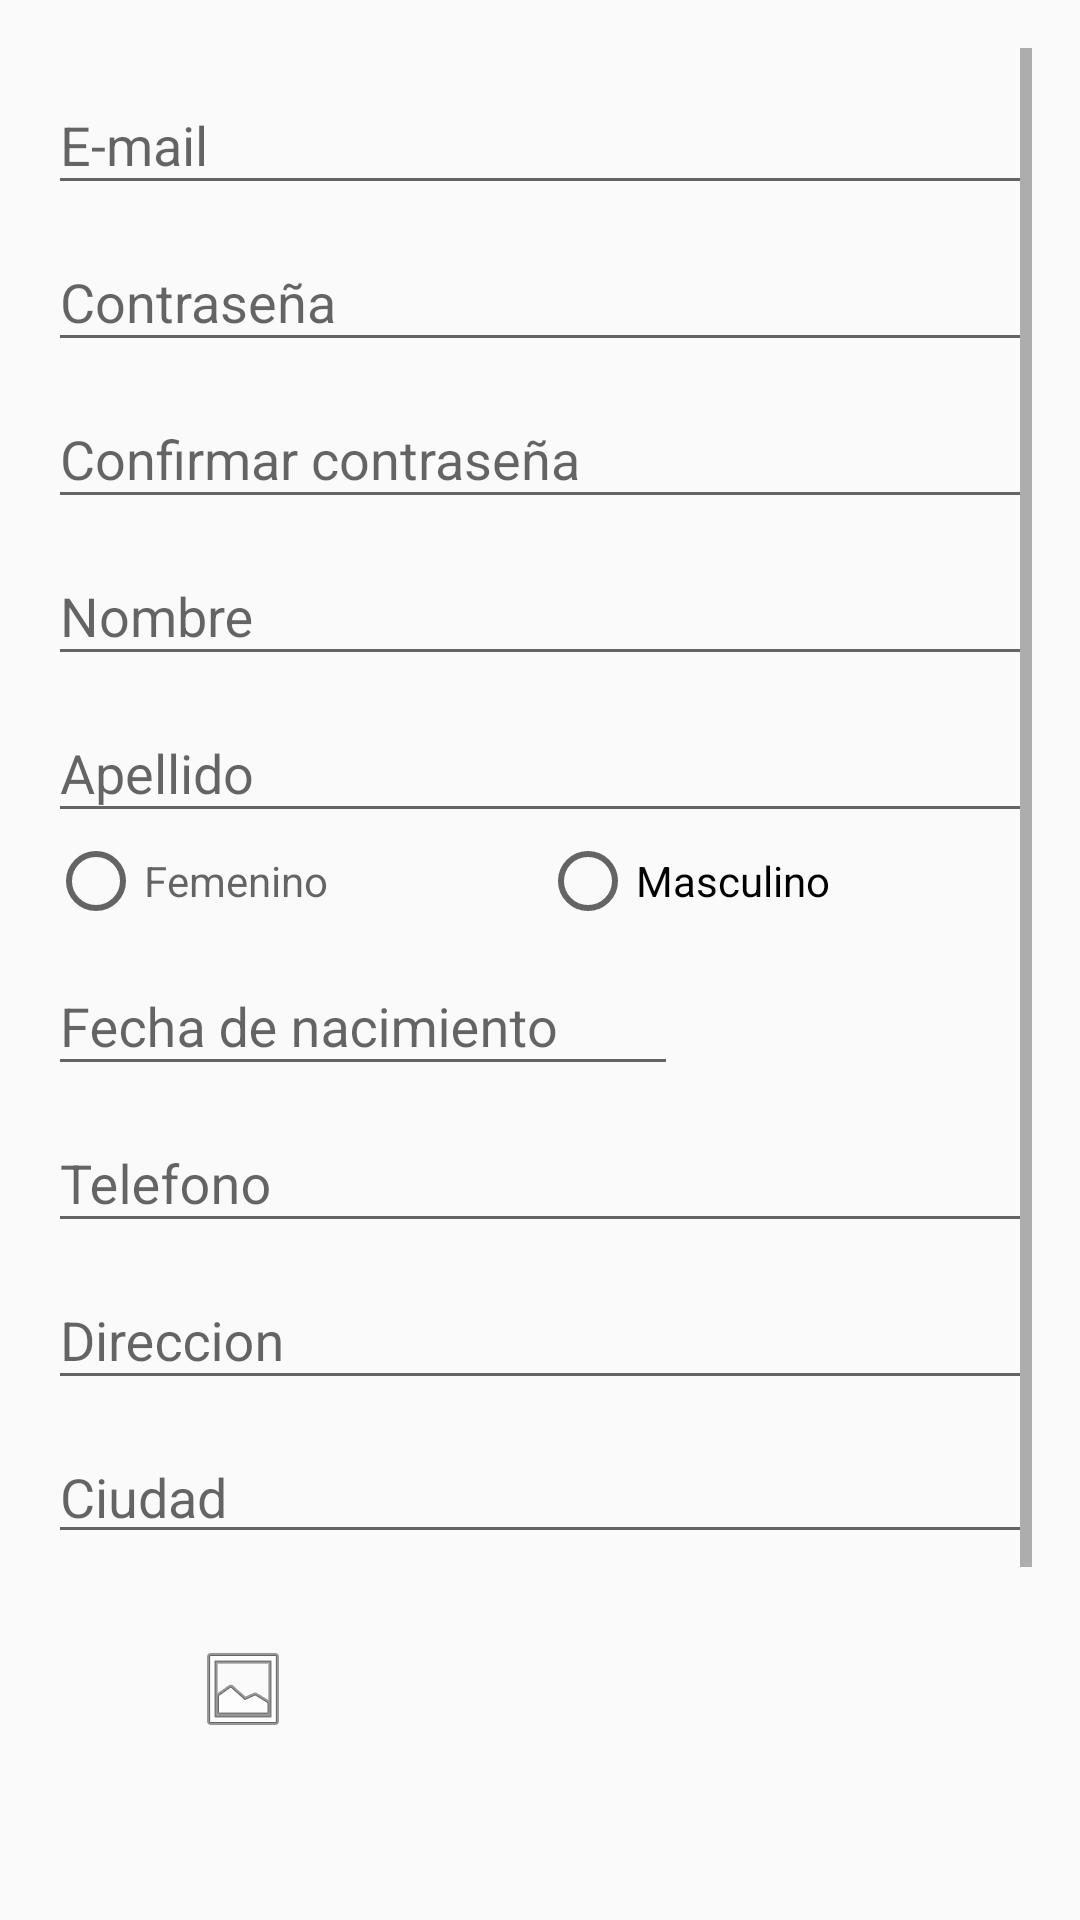

Locate icon controls on the screen. Image size 1080 × 1920, boxes as (x1, y1, x2, y2).
gallery: (207, 1653, 279, 1725)
